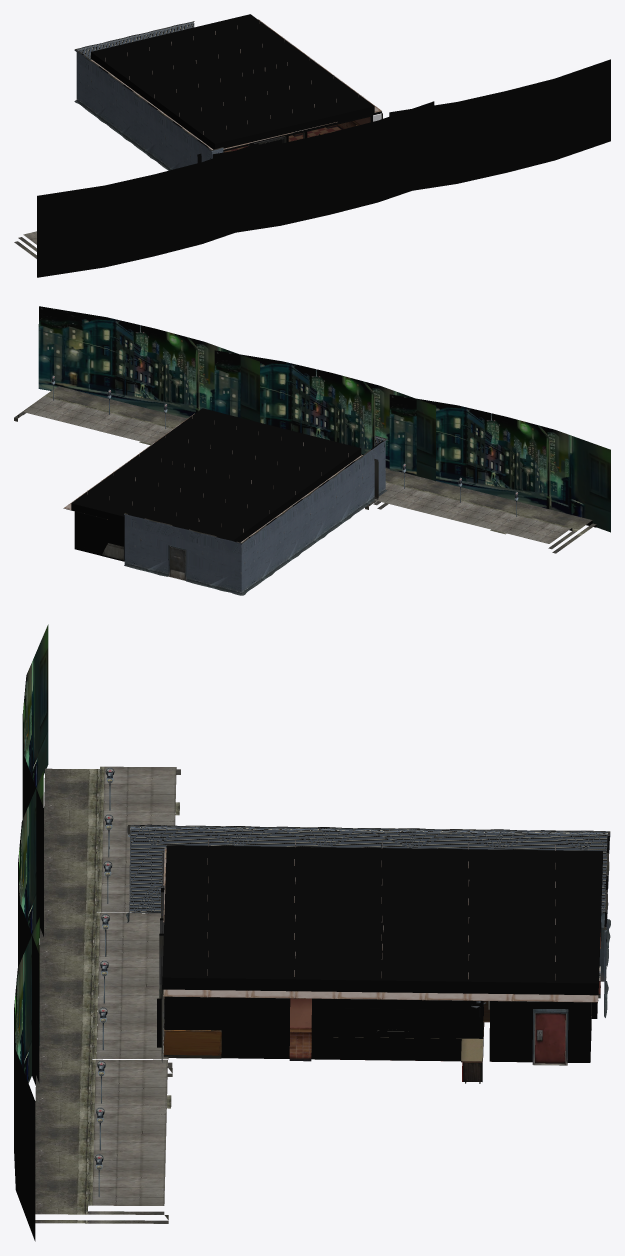
The model's file is for_pashapashas_diner_COMPRESSED.glb.
3 renders of one model, top to bottom at view 1: azimuth 30°, elevation 25°; view 2: azimuth 150°, elevation 25°; view 3: azimuth 270°, elevation 25°, orthographic. The views are drawn at different scales.
Visible parts, largest first — view 1: Material2 (×3), Material3; view 2: Material3 (×5), Material2 (×2); view 3: Material2 (×2), Material3 (×10).
Boxes of the visible parts, x1,y1,x2,y2 form: Material2 (×3): [37, 14, 610, 277]; Material3: [91, 19, 381, 149]; Material3 (×5): [14, 306, 610, 580]; Material2 (×2): [18, 408, 596, 595]; Material2 (×2): [14, 721, 610, 1241]; Material3 (×10): [14, 624, 606, 1223].
Bounding box in the file's own units: 1756 × 242 × 928.
53 materials, 51 textured.
